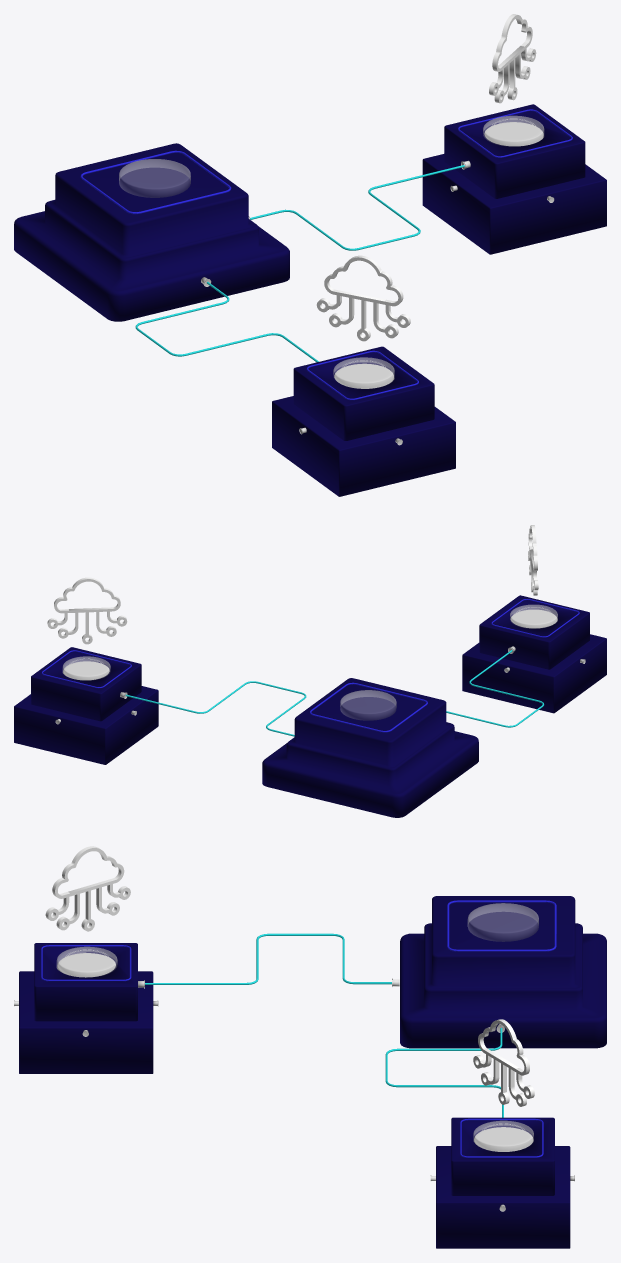
File: Synechroncity_newHub(61).glb
The picture shows the model from 3 angles, top to bottom: view 1: azimuth 30°, elevation 25°; view 2: azimuth 150°, elevation 25°; view 3: azimuth 270°, elevation 25°; orthographic projection. The views are drawn at different scales.
Parts seen in each view (by area): view 1: Synechron_Hub, Cube.002, Cube.001, subplatform_Development.001, subplatform_Development, Curve.006, Cylinder.013, Curve.004, Cylinder.001, Cylinder, Cylinder.022, Cylinder.016 (+3 smaller); view 2: Synechron_Hub, Cube.001, Cube.002, subplatform_Development.001, subplatform_Development, Curve.004, Cylinder.013, Cylinder, Cylinder.001, Cylinder.016, Cylinder.022, Plane.002 (+3 smaller); view 3: Synechron_Hub, Cube.001, Cube.002, subplatform_Development.001, subplatform_Development, Curve.006, Cylinder.013, Curve.004, Cylinder, Cylinder.001, Cylinder.016, Cylinder.022 (+5 smaller).
Part boxes in pixels (x1,y1,x2,y2): Synechron_Hub: [14, 143, 289, 321]; Cube.002: [272, 396, 455, 496]; Cube.001: [422, 154, 606, 254]; subplatform_Development.001: [293, 346, 434, 440]; subplatform_Development: [444, 104, 585, 198]; Curve.006: [316, 255, 410, 341]; Cylinder.013: [119, 159, 190, 197]; Curve.004: [489, 14, 536, 103]; Cylinder.001: [333, 357, 394, 388]; Cylinder: [483, 115, 544, 146]; Cylinder.022: [334, 363, 394, 388]; Cylinder.016: [484, 122, 543, 146]; Synechron_Hub: [262, 678, 478, 817]; Cube.001: [14, 686, 158, 764]; Cube.002: [462, 634, 606, 713]; subplatform_Development.001: [479, 595, 589, 669]; subplatform_Development: [31, 647, 141, 721]; Curve.004: [47, 577, 127, 644]; Cylinder.013: [340, 690, 396, 720]; Cylinder: [62, 656, 110, 680]; Cylinder.001: [510, 604, 557, 628]; Cylinder.016: [63, 661, 109, 680]; Cylinder.022: [510, 609, 557, 628]; Plane.002: [125, 681, 306, 736]; Synechron_Hub: [400, 896, 606, 1048]; Cube.001: [436, 1146, 570, 1248]; Cube.002: [19, 971, 153, 1073]; subplatform_Development.001: [34, 943, 137, 1021]; subplatform_Development: [451, 1117, 554, 1195]; Curve.006: [45, 846, 130, 931]; Cylinder.013: [467, 903, 538, 941]; Curve.004: [473, 1019, 534, 1106]; Cylinder: [473, 1120, 533, 1151]; Cylinder.001: [56, 946, 117, 977]; Cylinder.016: [473, 1127, 533, 1151]; Cylinder.022: [57, 953, 115, 977].
Size of the model in its own units: 22.17 by 8.04 by 21.8.
